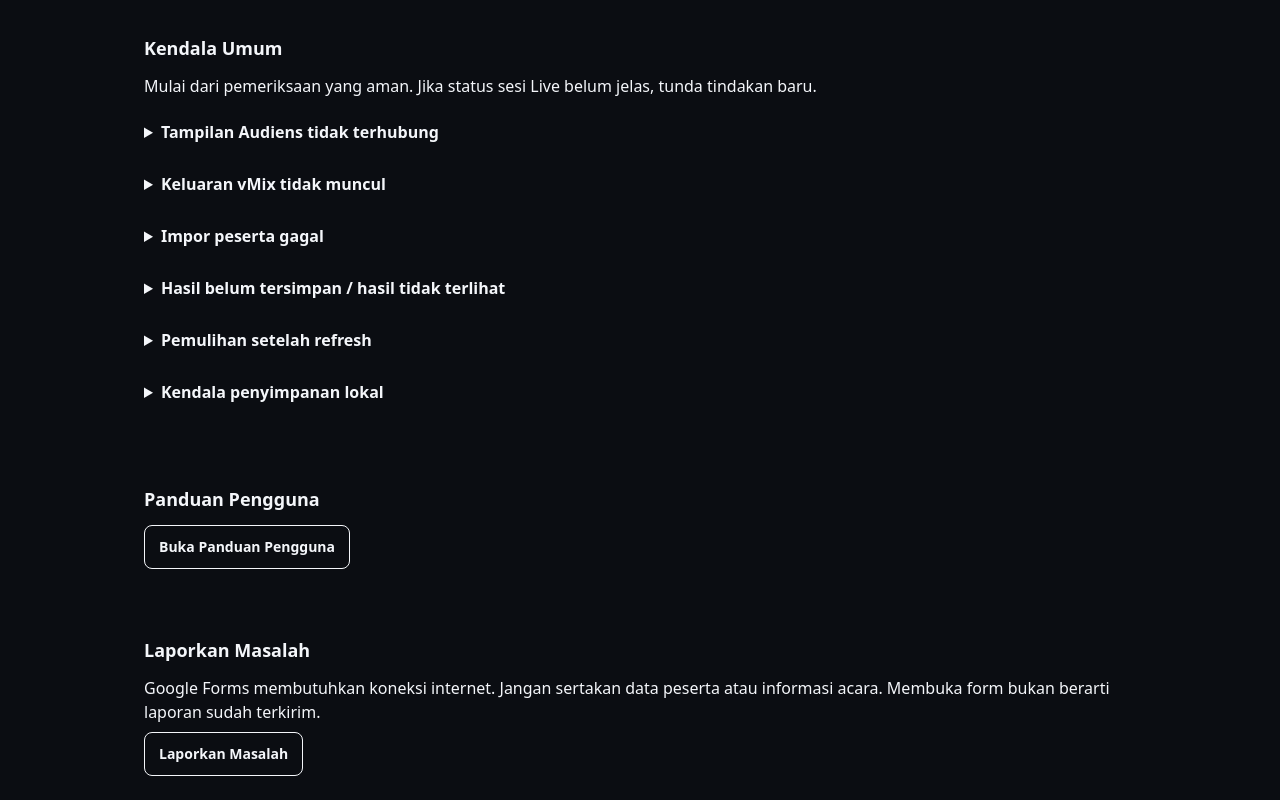
Test: Help infrastructure and navigation › opens the existing reporting modal and restores focus on closing
(page scrolled)
Click the button "Laporkan Masalah" at (224,754), box x1=144 y1=732 x2=303 y2=776
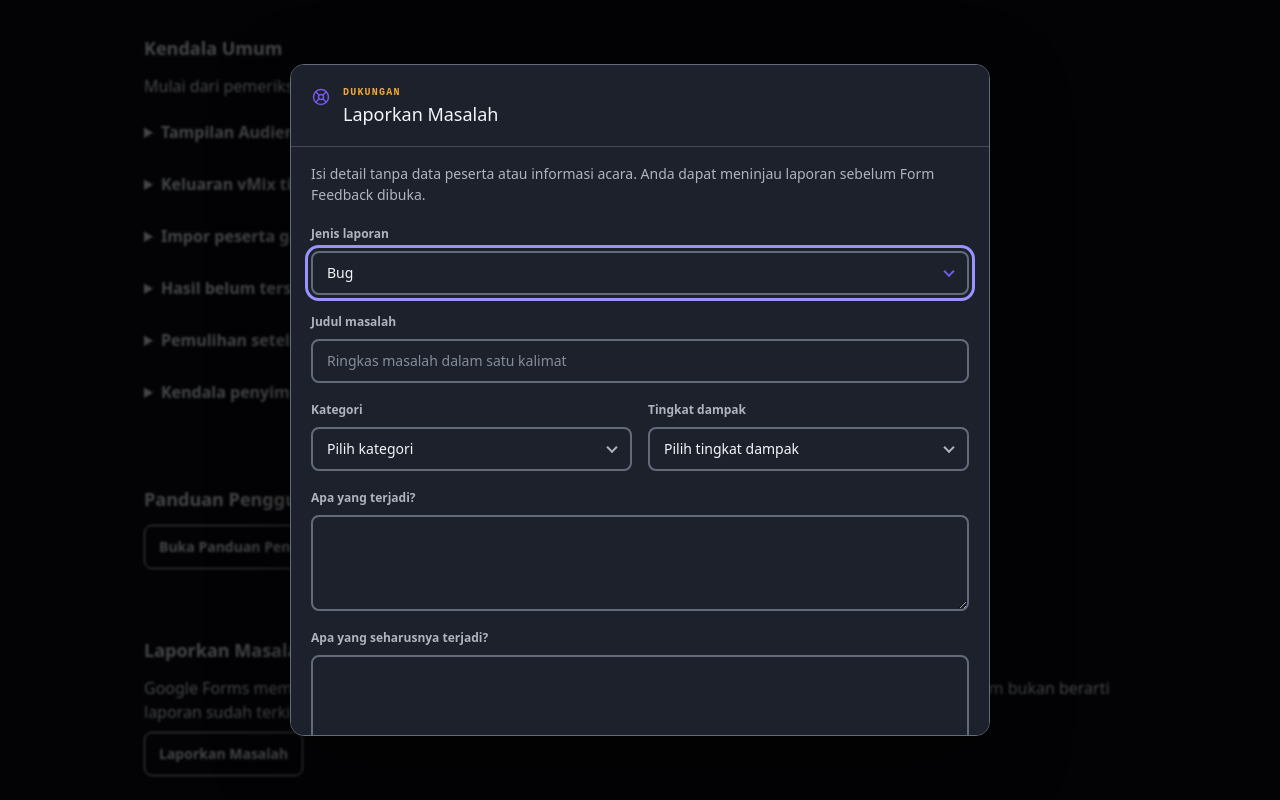
Check: the dialog "Laporkan Masalah" is shown, box x1=290 y1=64 x2=990 y2=736
Press Escape
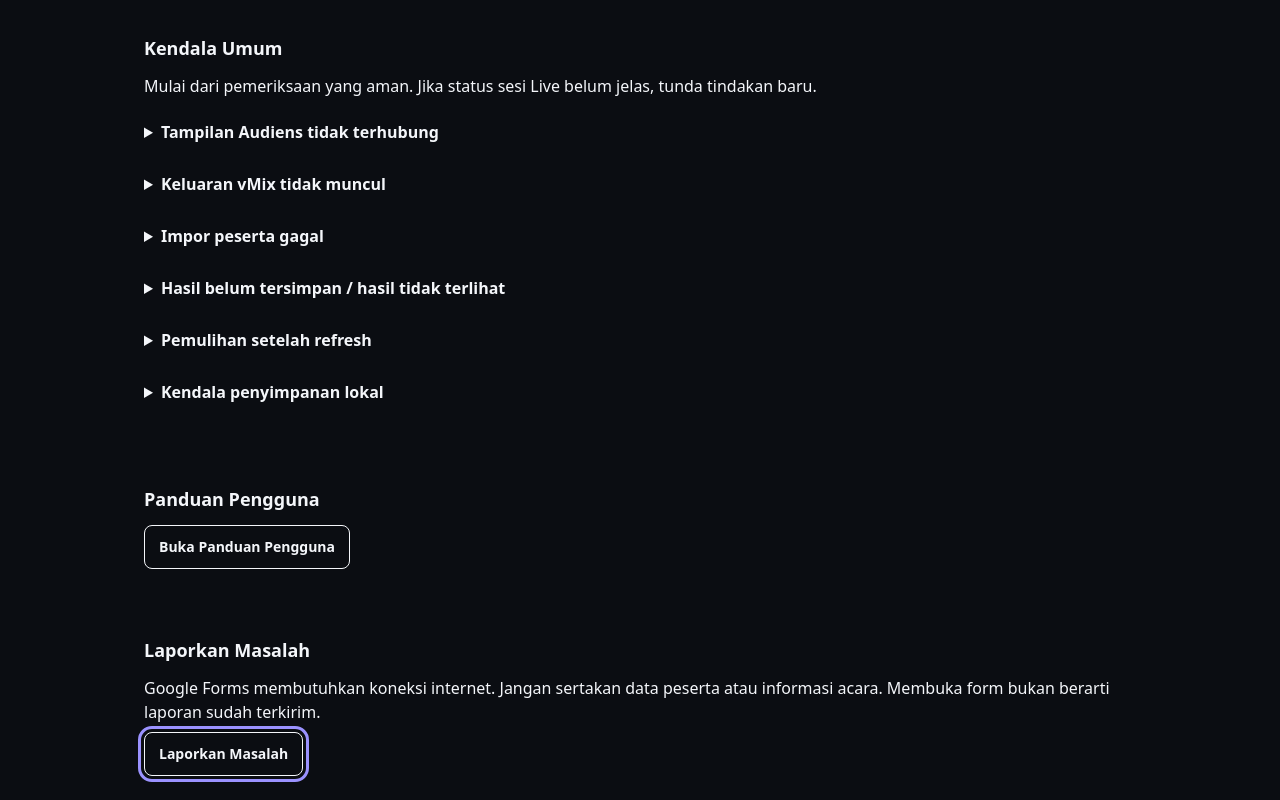
Check: the text "Membuka form bukan berarti laporan sudah terkirim" is shown, box x1=144 y1=677 x2=1110 y2=723
Check: the dialog is gone
